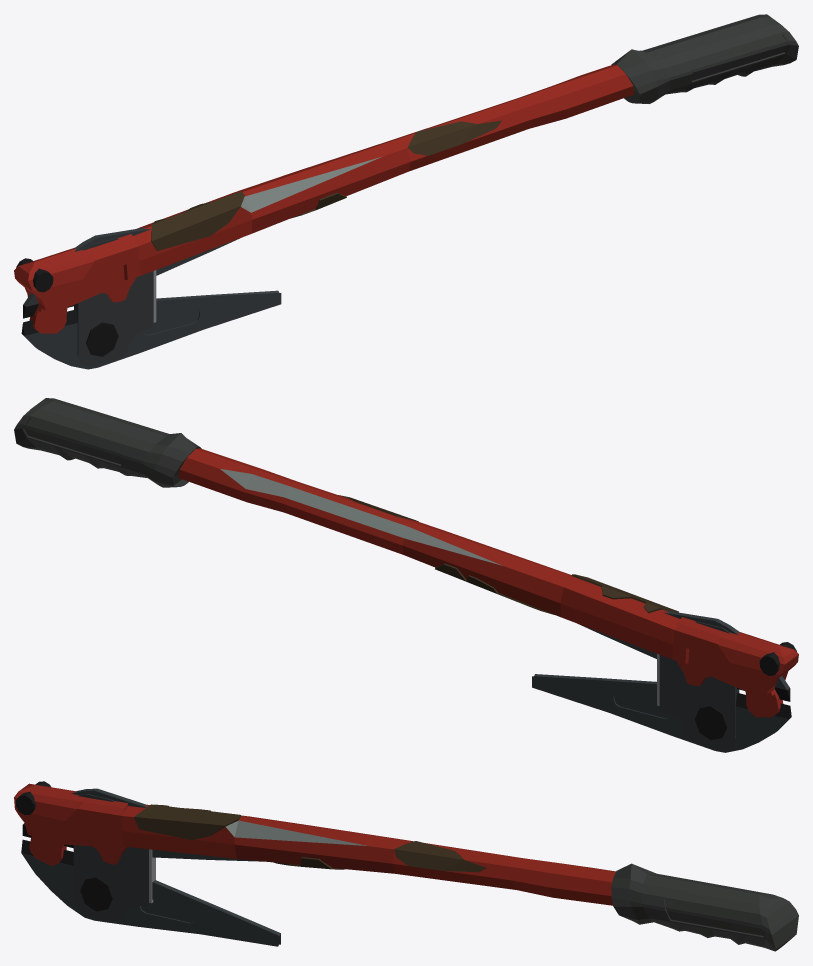
The model's file is SM_Bolt_Cutter_1.glb.
3 renders of one model, top to bottom at view 1: azimuth 30°, elevation 25°; view 2: azimuth 150°, elevation 25°; view 3: azimuth 330°, elevation 25°, orthographic.
Visible parts, largest first — view 1: HOLDER_FOR_Bolt_Cutter, SM_Bolt_Cutter 1; view 2: HOLDER_FOR_Bolt_Cutter, SM_Bolt_Cutter 1; view 3: HOLDER_FOR_Bolt_Cutter, SM_Bolt_Cutter 1.
Part boxes in pixels (x1,y1,x2,y2): HOLDER_FOR_Bolt_Cutter: [14, 14, 798, 333]; SM_Bolt_Cutter 1: [21, 227, 281, 369]; HOLDER_FOR_Bolt_Cutter: [14, 398, 798, 717]; SM_Bolt_Cutter 1: [532, 610, 791, 752]; HOLDER_FOR_Bolt_Cutter: [14, 781, 798, 951]; SM_Bolt_Cutter 1: [21, 788, 280, 946].
Size of the model in its own units: 0.468 by 0.1092 by 0.029.
1 material, 1 textured.
